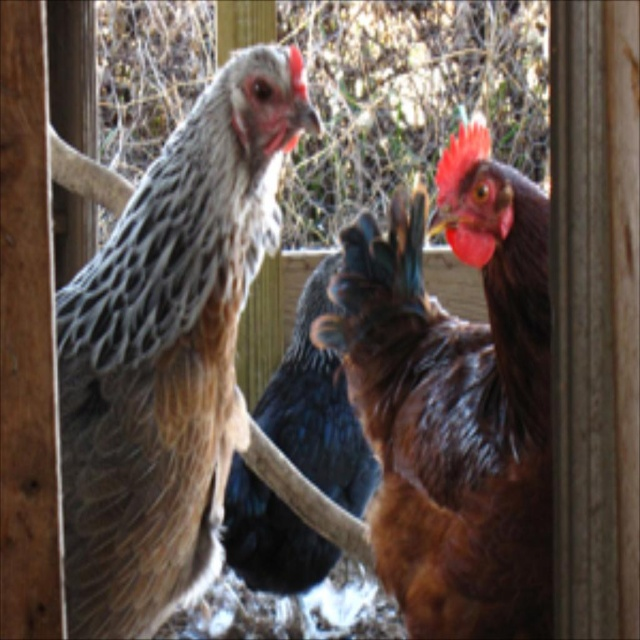Chicken: (45, 43, 324, 637), (329, 117, 553, 637)
